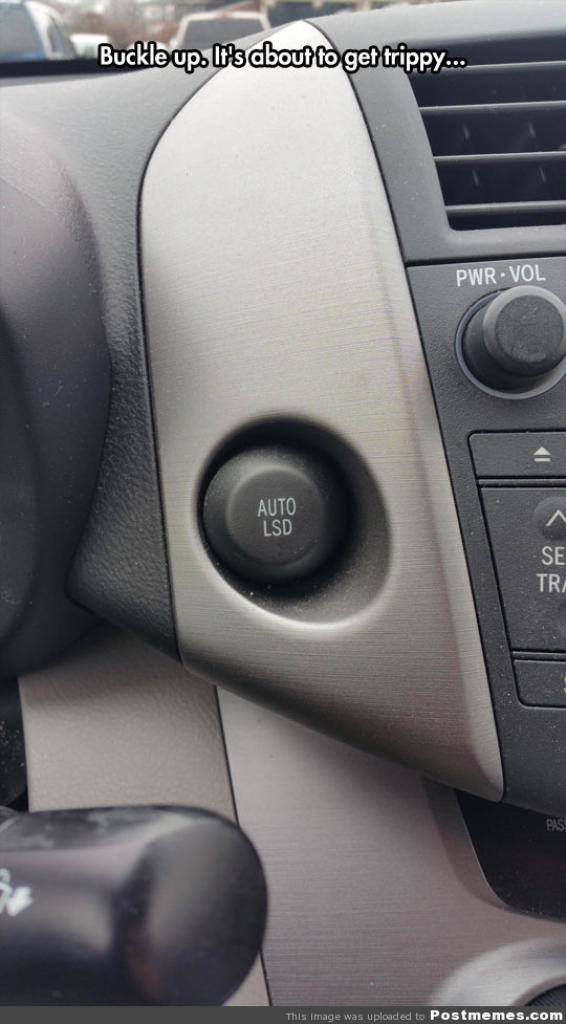Car: (0, 0, 564, 1009)
